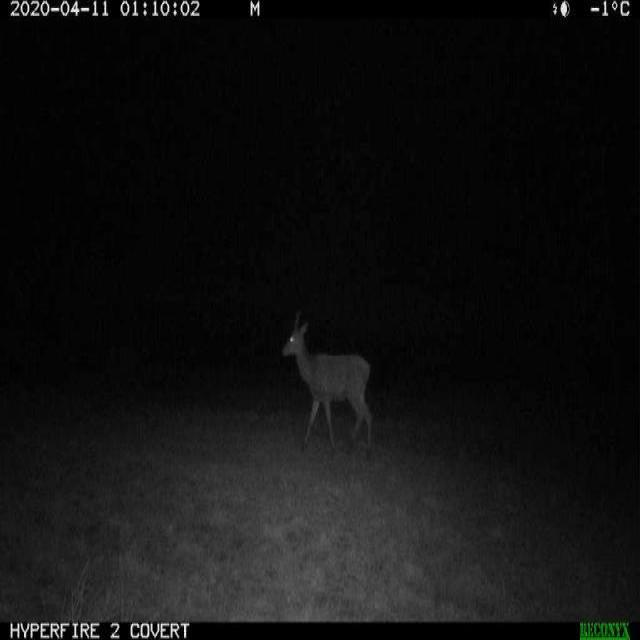deer: (267, 302, 382, 471), (17, 277, 108, 432)
